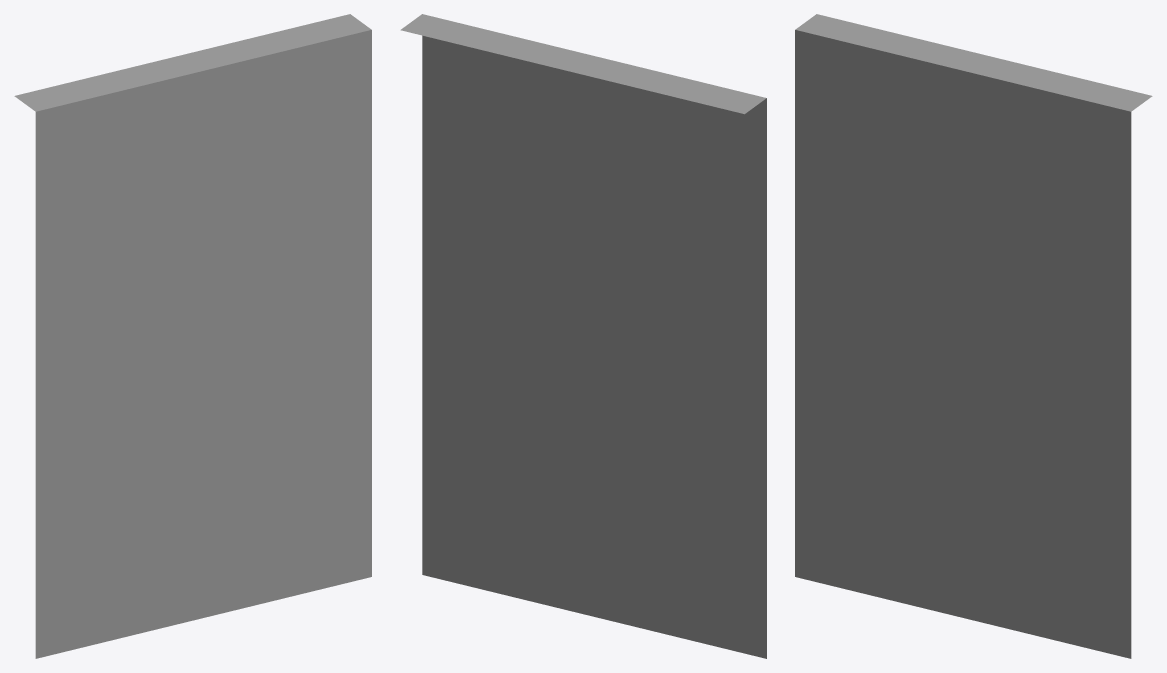
The model's file is M_Wall225White60.FBX.
3 views of the same model, side by side, from view 1: azimuth 30°, elevation 25°; view 2: azimuth 150°, elevation 25°; view 3: azimuth 330°, elevation 25° (orthographic). The views are drawn at different scales.
Visible parts, largest first — view 1: M_Wall225White60; view 2: M_Wall225White60; view 3: M_Wall225White60.
Boxes of the visible parts, x1=… form: M_Wall225White60: x1=14, y1=14, x2=371, y2=658; M_Wall225White60: x1=400, y1=14, x2=766, y2=658; M_Wall225White60: x1=795, y1=14, x2=1152, y2=658.
Size of the model in its own units: 2.25 by 3.5 by 0.25.
